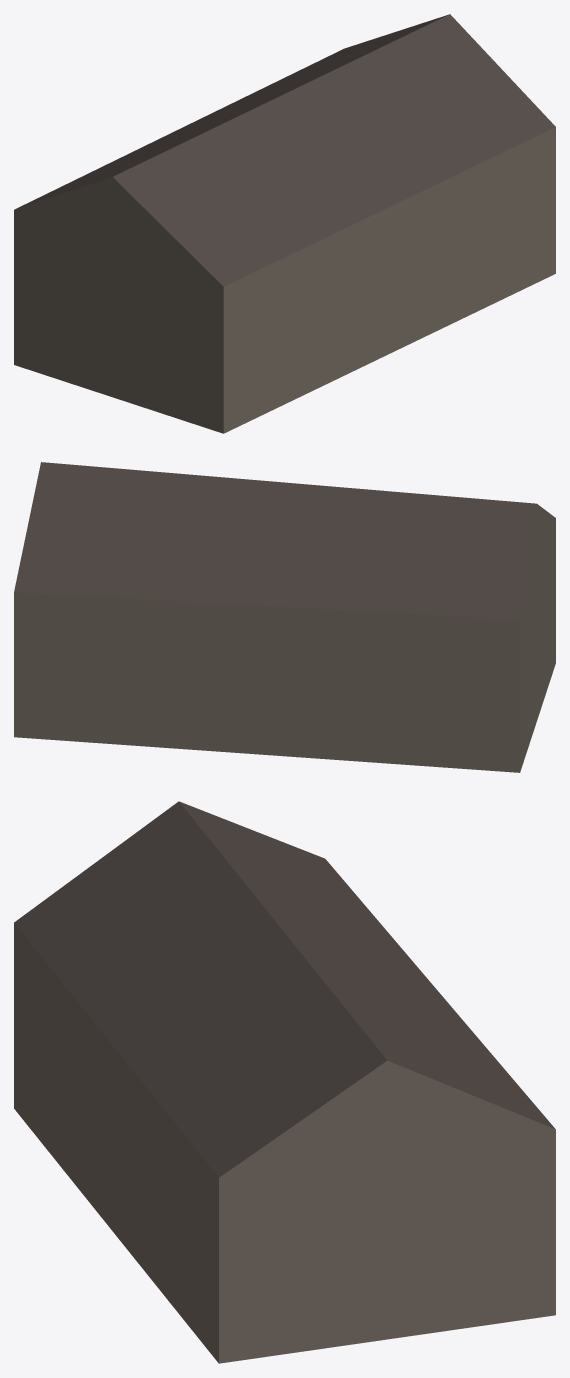
3 renders of one model, top to bottom at view 1: azimuth 30°, elevation 25°; view 2: azimuth 150°, elevation 25°; view 3: azimuth 270°, elevation 25°, orthographic. The views are drawn at different scales.
Visible parts, largest first — view 1: HP-w1512914141; view 2: HP-w1512914141; view 3: HP-w1512914141.
Boxes of the visible parts, x1,y1,x2,y2 form: HP-w1512914141: (14,14,555,433); HP-w1512914141: (14,462,555,772); HP-w1512914141: (14,801,555,1363).
Size of the model in its own units: 21.38 by 9.01 by 15.87.
